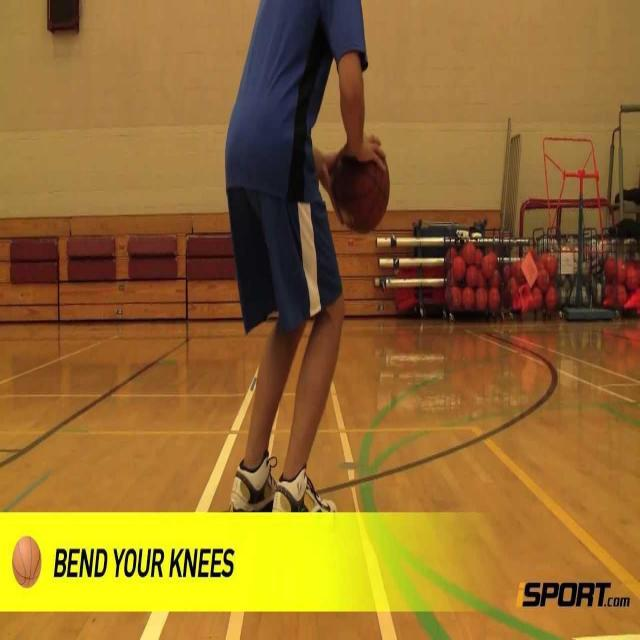Basketball: (333, 139, 390, 233), (624, 260, 640, 290), (512, 260, 526, 286), (453, 255, 466, 282), (545, 286, 558, 313), (544, 254, 558, 278), (604, 256, 618, 280), (463, 242, 477, 265), (537, 268, 550, 292), (487, 287, 500, 311), (464, 264, 478, 286), (614, 284, 628, 306), (462, 287, 476, 309), (475, 287, 488, 310), (482, 255, 494, 279), (616, 260, 628, 284), (531, 287, 543, 310), (449, 287, 462, 308), (445, 247, 457, 269), (488, 268, 500, 290), (604, 283, 616, 305), (525, 247, 537, 267)
